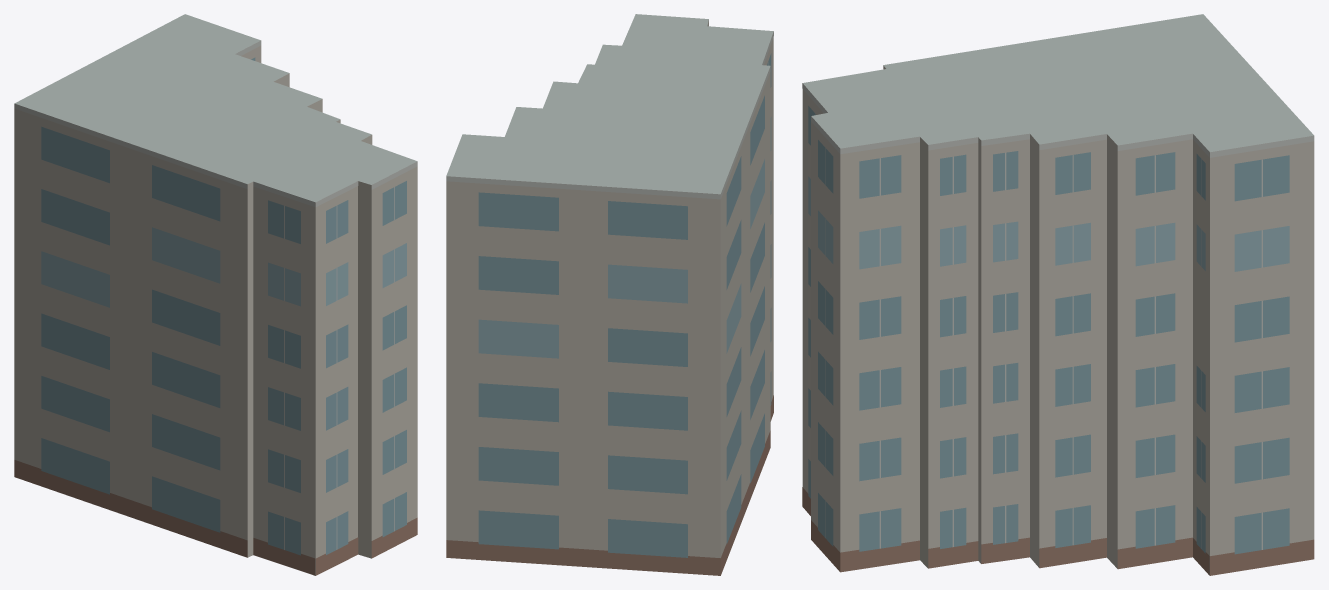
Rendered from survey-upis-32576589.glb.
The picture shows the model from 3 angles, left to right: view 1: azimuth 30°, elevation 25°; view 2: azimuth 150°, elevation 25°; view 3: azimuth 270°, elevation 25°; orthographic projection. The views are drawn at different scales.
Visible parts, largest first — view 1: survey-upis-32576589.tmp; view 2: survey-upis-32576589.tmp; view 3: survey-upis-32576589.tmp.
Boxes of the visible parts, x1,y1,x2,y2 form: survey-upis-32576589.tmp: [14, 14, 417, 575]; survey-upis-32576589.tmp: [446, 14, 773, 575]; survey-upis-32576589.tmp: [802, 14, 1314, 575].
Size of the model in its own units: 12.82 by 18.3 by 20.05.
